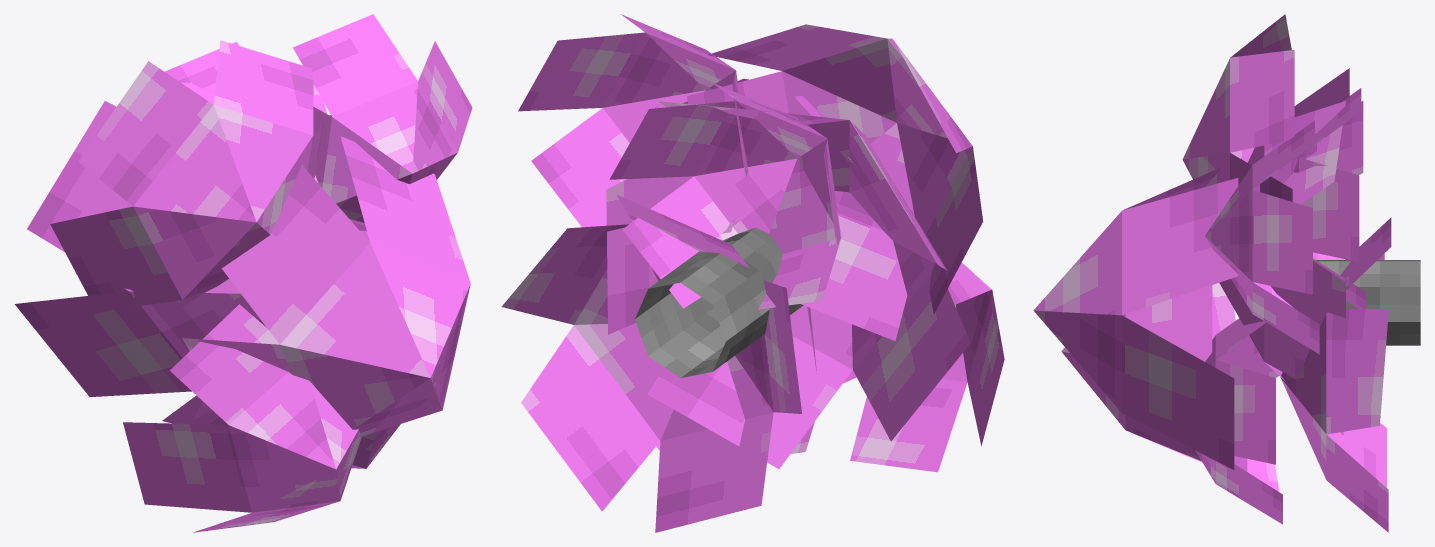
File: tree-moon-top.glb
3 views of the same model, side by side, from view 1: azimuth 30°, elevation 25°; view 2: azimuth 150°, elevation 25°; view 3: azimuth 270°, elevation 25° (orthographic). The views are drawn at different scales.
Visible parts, largest first — view 1: tree-moon-top; view 2: tree-moon-top; view 3: tree-moon-top.
Boxes of the visible parts, left/top/right/bottom form: tree-moon-top: left=14, top=14, right=472, bottom=532; tree-moon-top: left=501, top=14, right=1004, bottom=532; tree-moon-top: left=1033, top=14, right=1420, bottom=532.
Bounding box in the file's own units: 2.89 × 2.92 × 2.39.
1 material, 1 textured.
